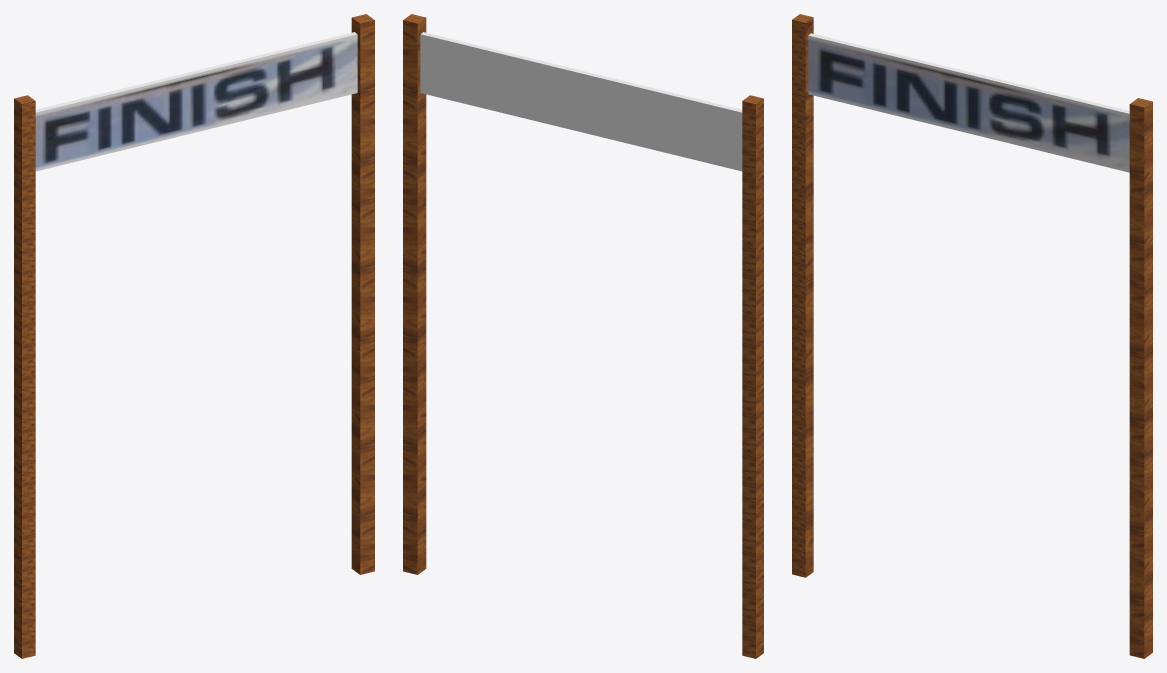
File: finishLine.obj
The picture shows the model from 3 angles, left to right: view 1: azimuth 30°, elevation 25°; view 2: azimuth 150°, elevation 25°; view 3: azimuth 330°, elevation 25°; orthographic projection.
Visible parts, largest first — view 1: Cube.002_Cube.005, Cube.001_Cube.004, Cube_Cube.001; view 2: Cube.002_Cube.005, Cube.001_Cube.004, Cube_Cube.001; view 3: Cube.002_Cube.005, Cube.001_Cube.004, Cube_Cube.001.
Boxes of the visible parts, left/top/right/bottom form: Cube.002_Cube.005: left=35, top=32, right=357, bottom=171; Cube.001_Cube.004: left=351, top=14, right=374, bottom=574; Cube_Cube.001: left=14, top=95, right=35, bottom=658; Cube.002_Cube.005: left=420, top=32, right=742, bottom=171; Cube.001_Cube.004: left=403, top=14, right=426, bottom=574; Cube_Cube.001: left=742, top=95, right=763, bottom=658; Cube.002_Cube.005: left=808, top=33, right=1129, bottom=172; Cube.001_Cube.004: left=1129, top=98, right=1152, bottom=658; Cube_Cube.001: left=792, top=14, right=813, bottom=577.
Size of the model in its own units: 6.33 by 9.52 by 0.2624.
